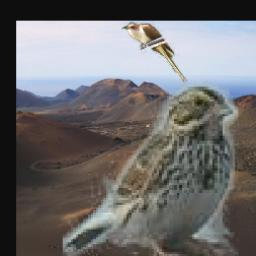Cuckoo: (122, 22, 188, 83)
Sparrow: (63, 83, 239, 256)
